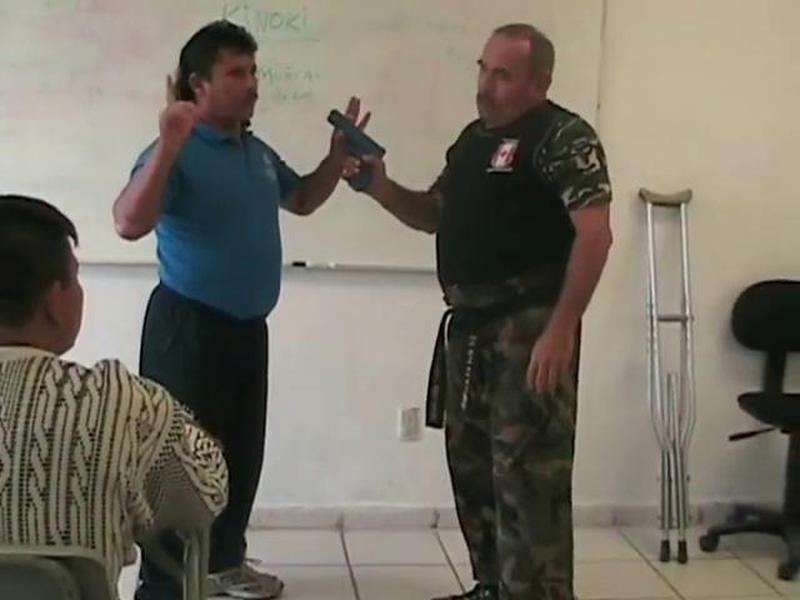Pistola: (317, 110, 399, 213)
